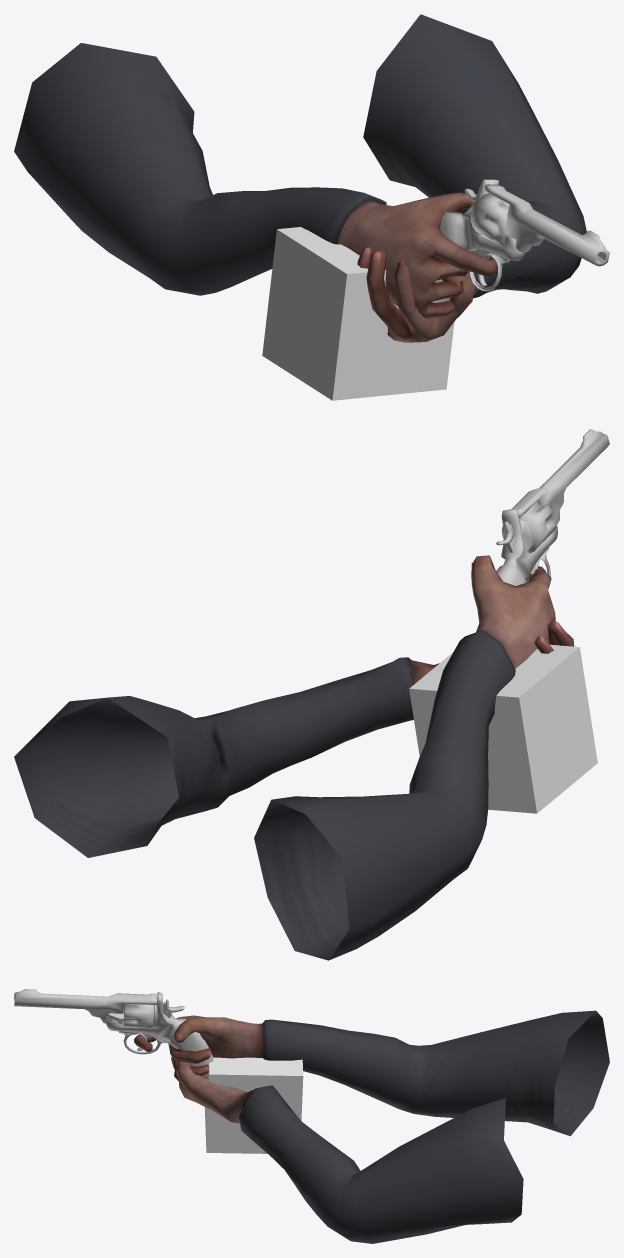
Rendered from shootMesh.FBX.
3 renders of one model, top to bottom at view 1: azimuth 30°, elevation 25°; view 2: azimuth 150°, elevation 25°; view 3: azimuth 270°, elevation 25°, orthographic. The views are drawn at different scales.
Parts seen in each view (by area): view 1: player_mesh, Box002, webley1_98low; view 2: player_mesh, Box002, webley1_98low; view 3: player_mesh, webley1_98low, Box002.
Boxes of the visible parts, left/top/right/bottom form: player_mesh: left=14, top=14, right=586, bottom=342; Box002: left=262, top=227, right=454, bottom=400; webley1_98low: left=431, top=179, right=609, bottom=302; player_mesh: left=14, top=555, right=574, bottom=960; Box002: left=409, top=644, right=597, bottom=813; webley1_98low: left=496, top=429, right=609, bottom=585; player_mesh: left=134, top=1010, right=609, bottom=1243; webley1_98low: left=14, top=989, right=213, bottom=1077; Box002: left=204, top=1023, right=303, bottom=1153.
Bounding box in the file's own units: 0.4669 × 0.2834 × 0.8065.
